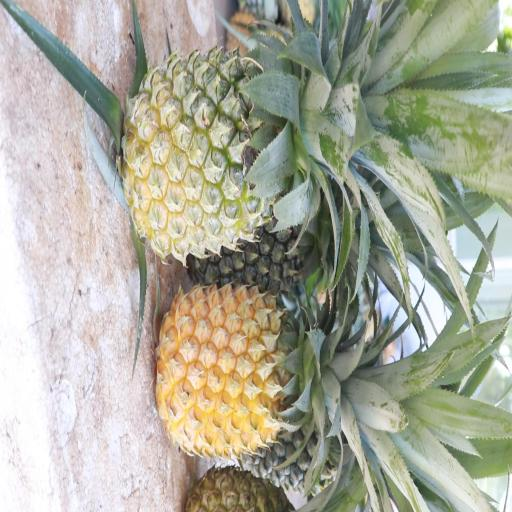------------------------------: (126, 56, 320, 254)
Pineapple - v8 v1: (161, 284, 341, 458)
